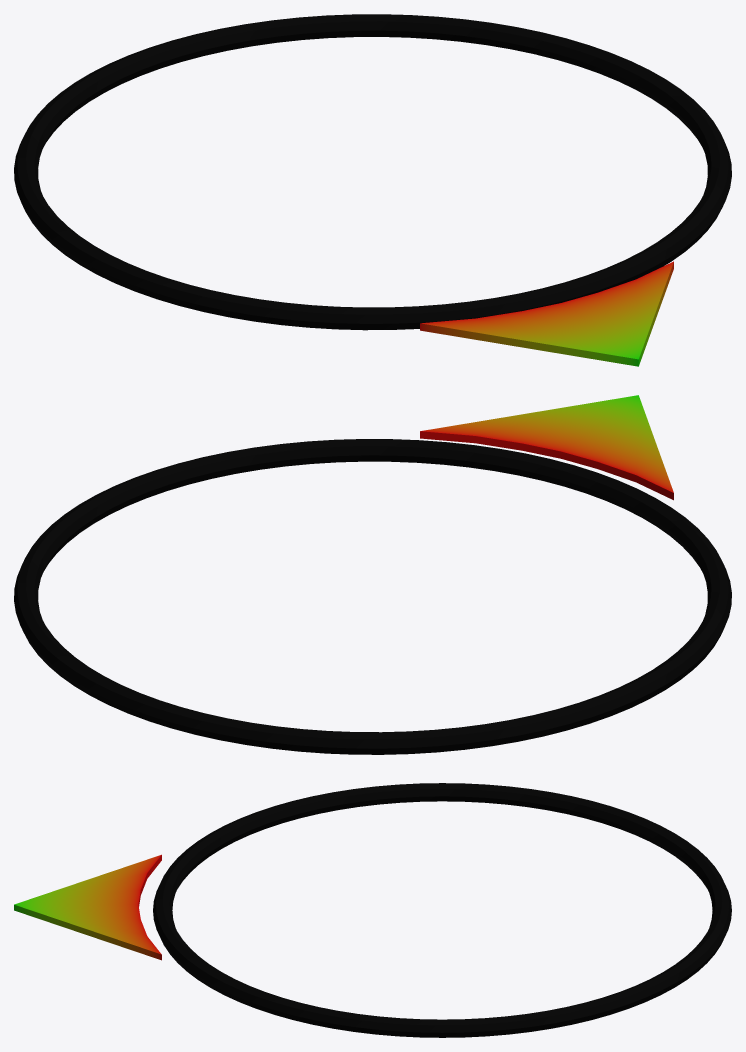
Rendered from NavigationArrow.fbx.
The picture shows the model from 3 angles, top to bottom: view 1: azimuth 30°, elevation 25°; view 2: azimuth 150°, elevation 25°; view 3: azimuth 270°, elevation 25°; orthographic projection. The views are drawn at different scales.
Parts seen in each view (by area): view 1: NavigationArrow; view 2: NavigationArrow; view 3: NavigationArrow.
Part boxes in pixels (x1,y1,x2,y2): NavigationArrow: (14, 14, 731, 366); NavigationArrow: (14, 395, 731, 754); NavigationArrow: (14, 783, 731, 1037).
Size of the model in its own units: 223 by 7.51 by 277.
